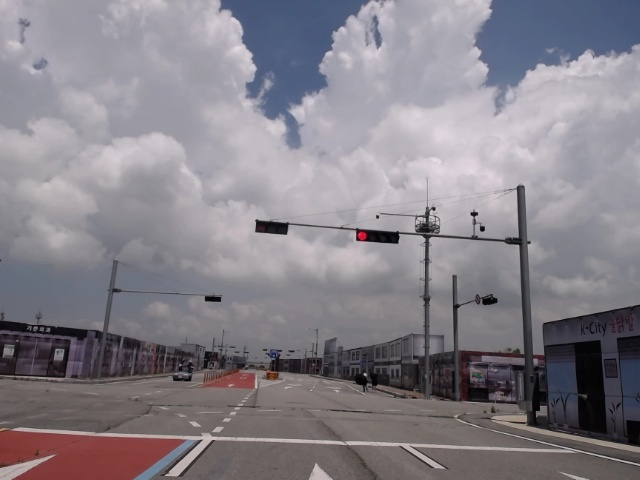red_4: (356, 230, 398, 244)
